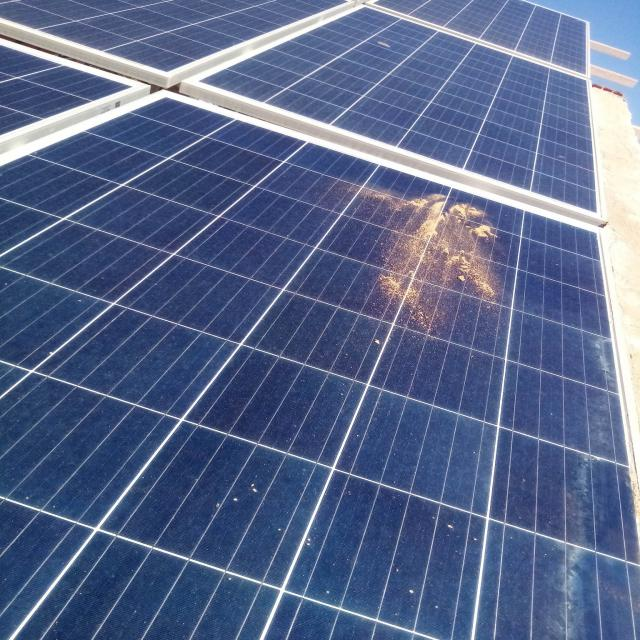faulty: (0, 100, 623, 640), (204, 8, 597, 209)
no faulty: (366, 0, 588, 70)
